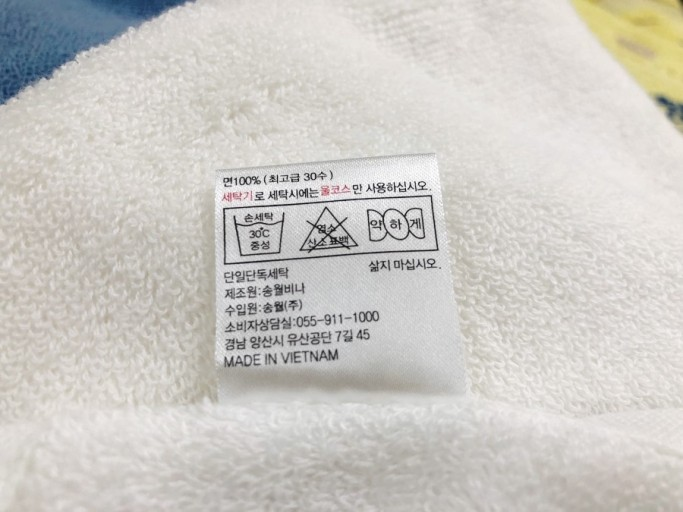KR_gentle_wring: (362, 204, 427, 244)
KR_hand_wash_30_neutral: (233, 211, 287, 258)
KR_no_bleach: (299, 206, 358, 252)
